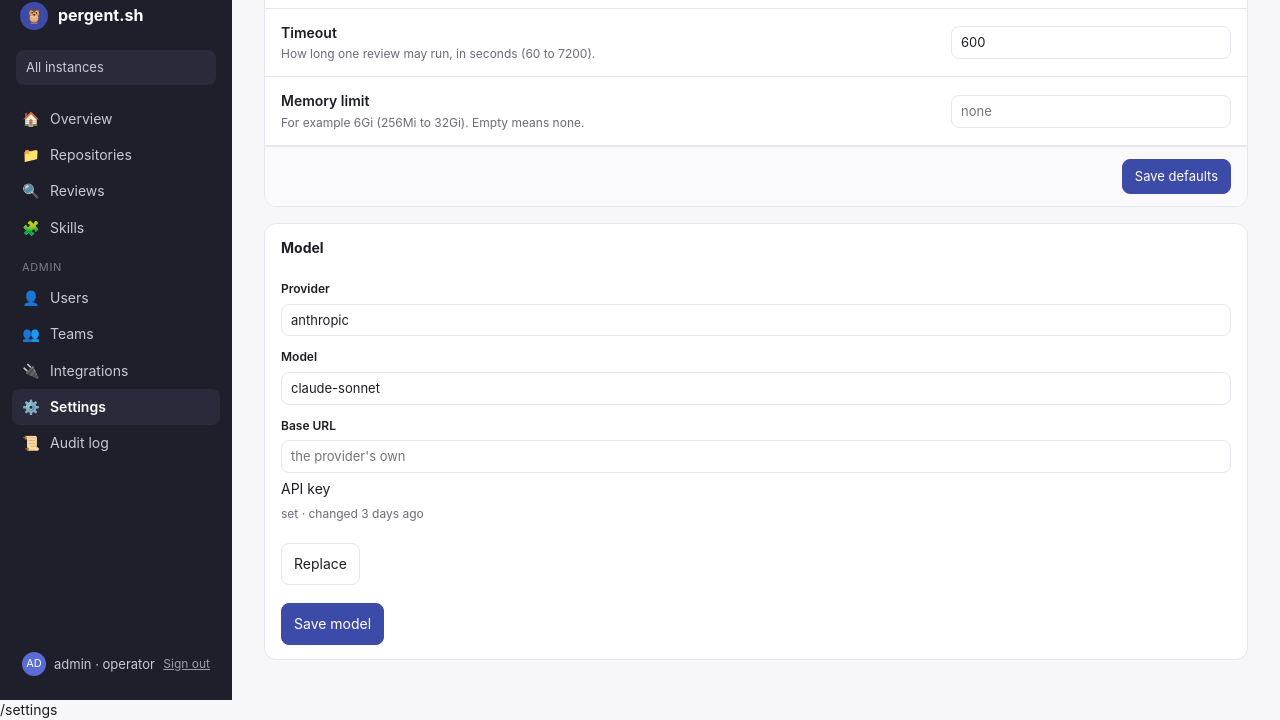
Test: AdminSettings model › shows the server's text when the model is refused
(page scrolled)
Click the button "Save model": (333, 624) [281,603,384,645]
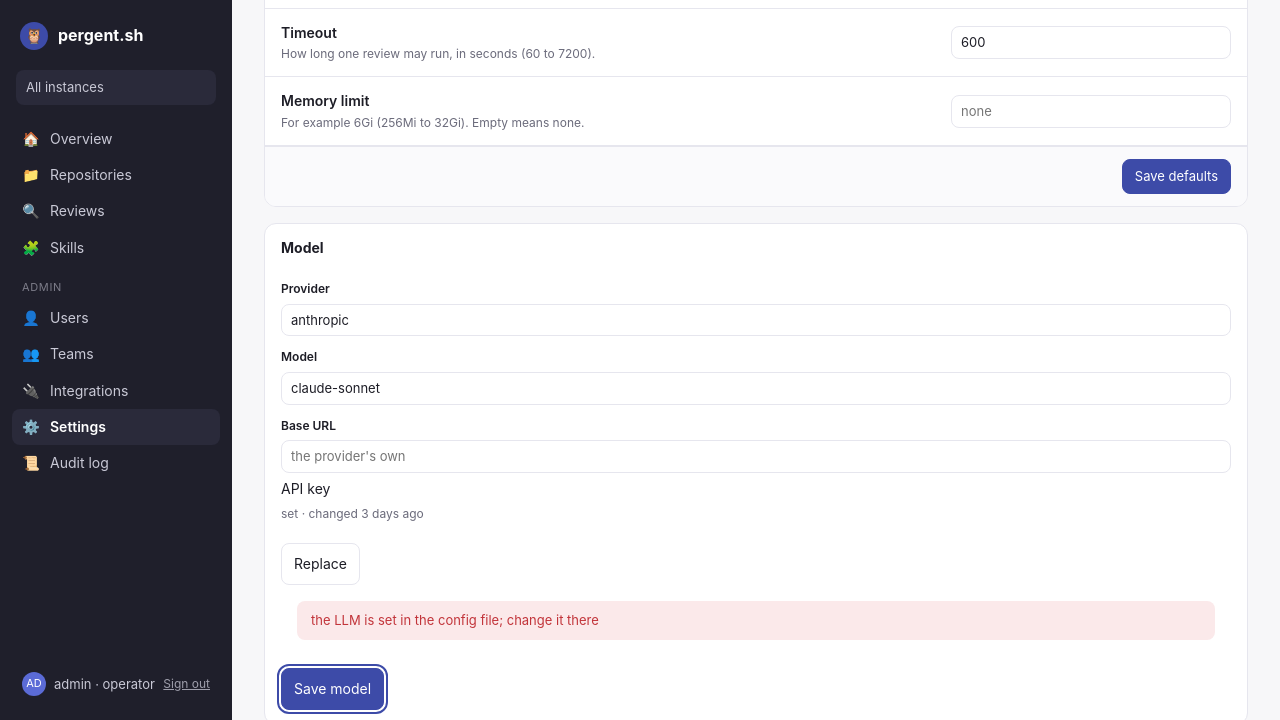
Expected: the message shows "the LLM is set in the config file", [311,612,599,628]
